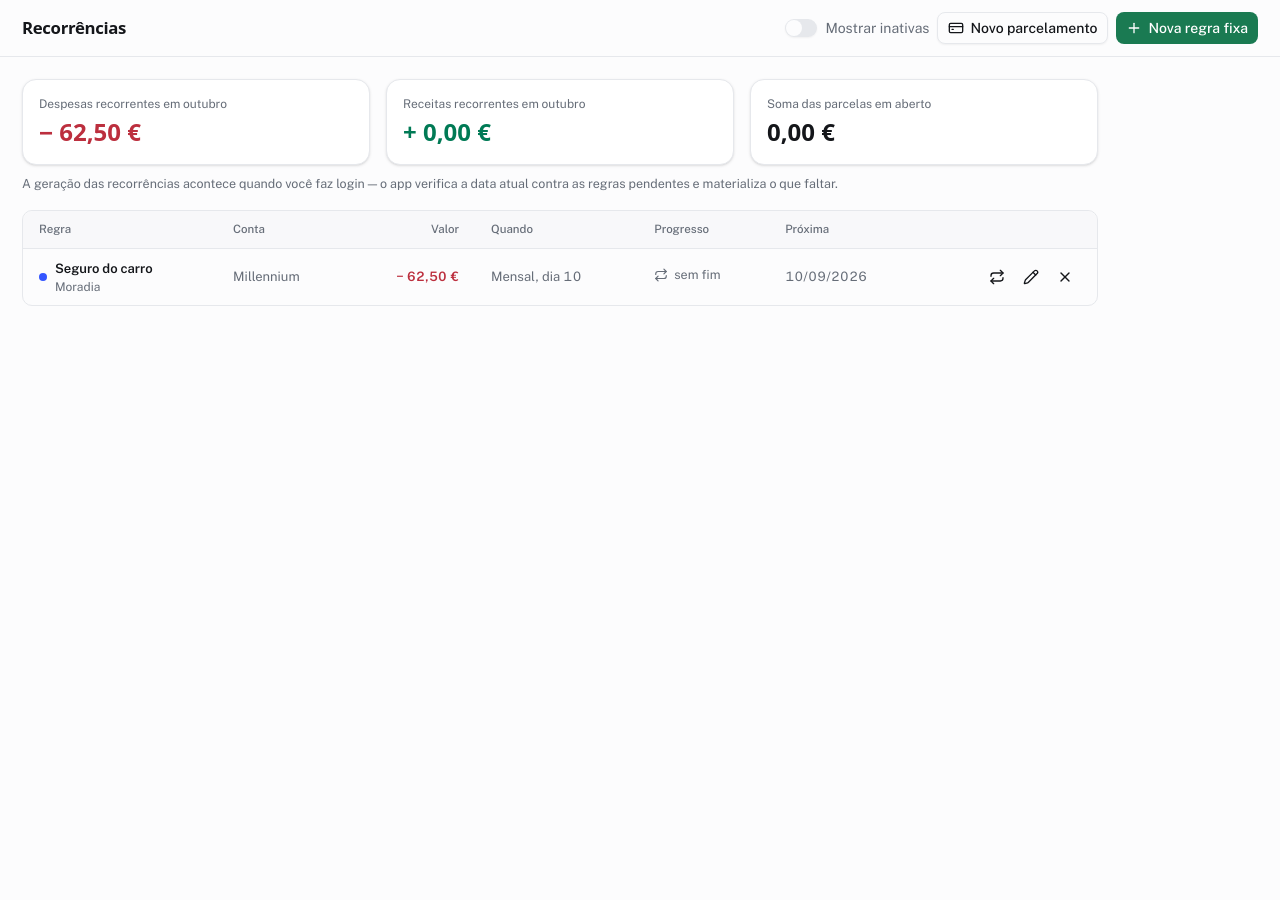
Test: RecurrencesPage › runs generate-now and reports how many entries were created
This screenshot has width=1280, height=900.
Check: the text "Seguro do carro" is shown, box [55, 259, 153, 278]
What coordinates should you click on to do the following:
click the button named "Gerar agora"
I would click on:
 (997, 277)
Its box is [981, 261, 1013, 293].
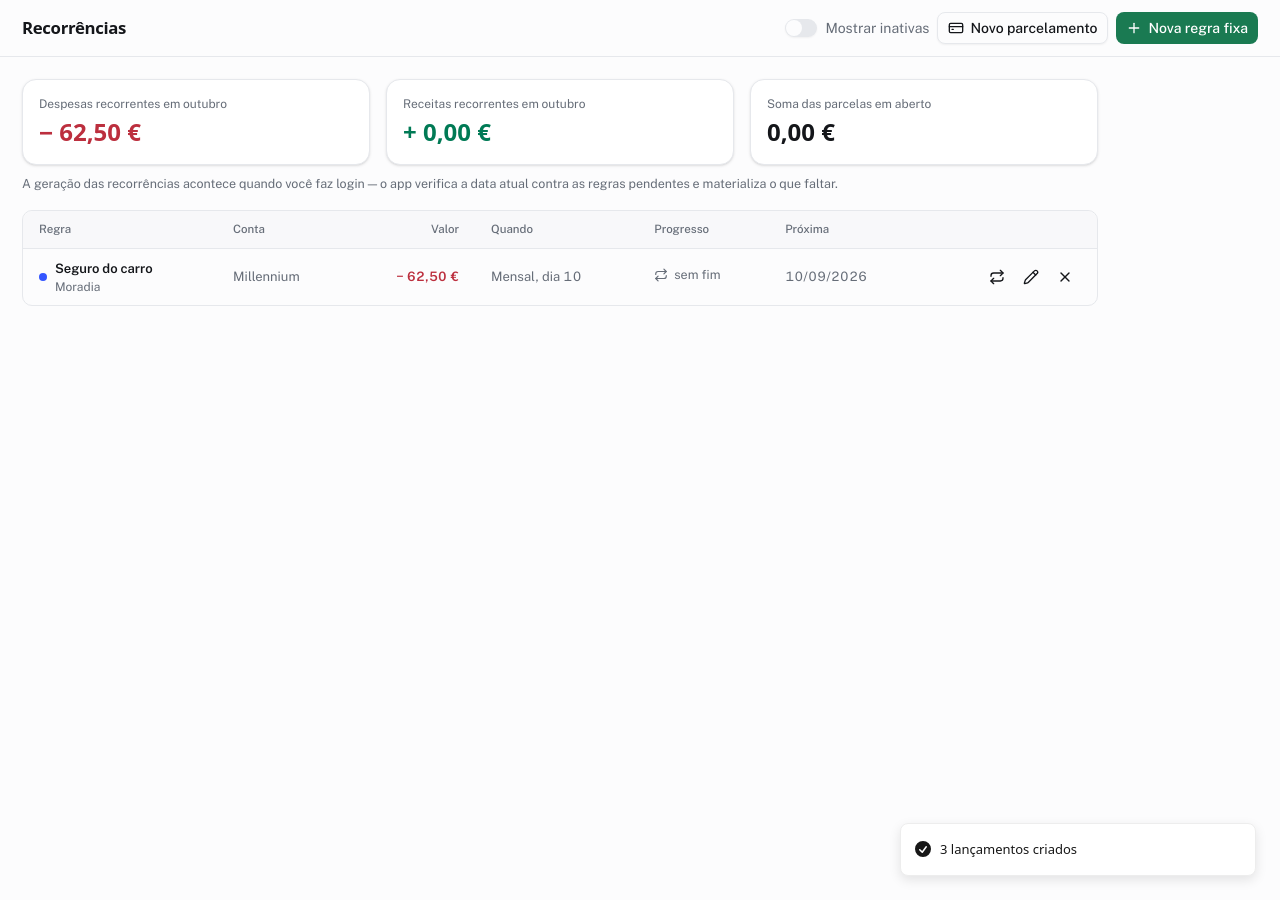
Check: the text "3 lançamentos criados" is shown, box [940, 840, 1077, 859]
